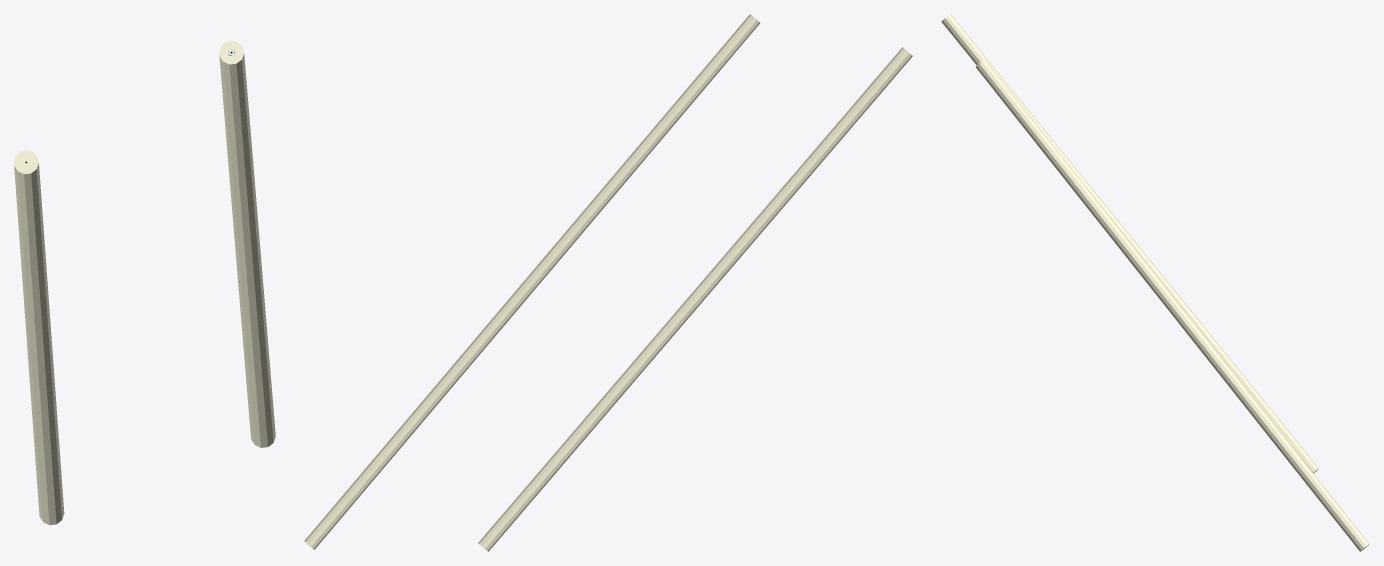
Rendered from tile_516.glb.
3 views of the same model, side by side, from view 1: azimuth 30°, elevation 25°; view 2: azimuth 150°, elevation 25°; view 3: azimuth 270°, elevation 25° (orthographic). The views are drawn at different scales.
Size of the model in its own units: 7.74 by 8.57 by 8.5.
